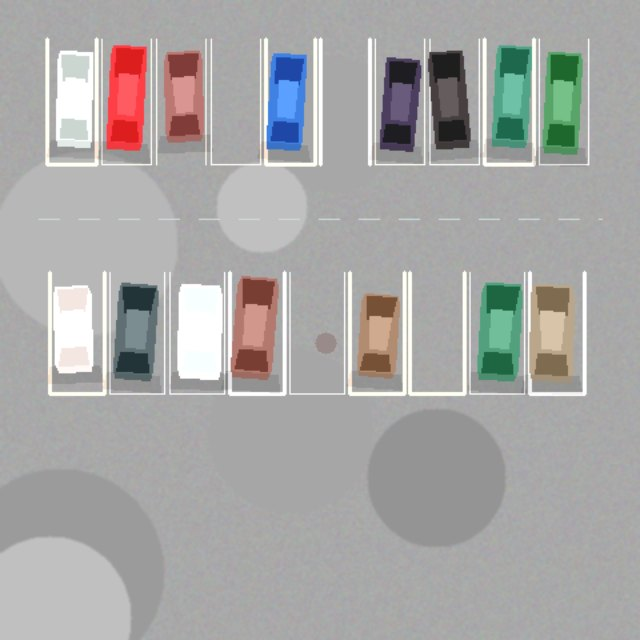space-empty: (289, 272, 344, 393), (409, 272, 464, 393), (211, 39, 260, 164), (320, 39, 369, 164)
space-occupied: (49, 272, 104, 393), (109, 272, 164, 393), (169, 272, 224, 393), (229, 272, 284, 393), (349, 272, 404, 393), (469, 272, 524, 393), (529, 272, 584, 393), (101, 39, 151, 164), (265, 39, 315, 164), (429, 39, 479, 164), (47, 39, 96, 164), (156, 39, 205, 164), (375, 39, 424, 164), (484, 39, 533, 164), (539, 39, 588, 164)
